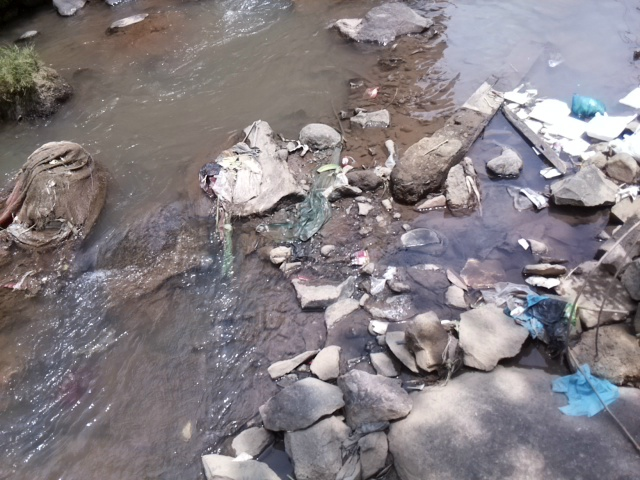Sampah_Plastik: (510, 296, 579, 356), (556, 364, 622, 422), (568, 92, 610, 122), (348, 250, 371, 267)
